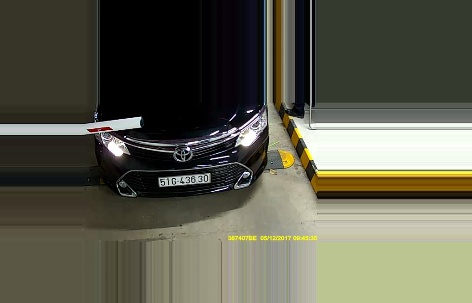plate: (155, 171, 214, 190)
